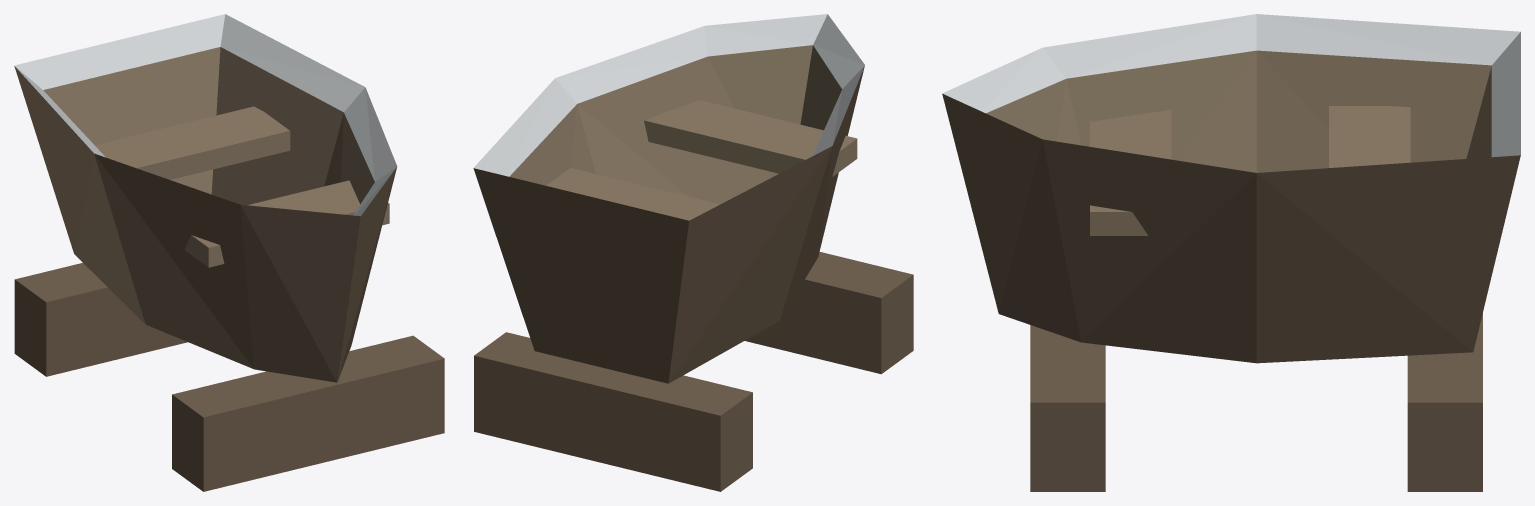
Rendered from boat_on_blocks.glb.
3 views of the same model, side by side, from view 1: azimuth 30°, elevation 25°; view 2: azimuth 150°, elevation 25°; view 3: azimuth 270°, elevation 25° (orthographic). The views are drawn at different scales.
Parts seen in each view (by area): view 1: boat_on_blocks; view 2: boat_on_blocks; view 3: boat_on_blocks.
Boxes of the visible parts, x1,y1,x2,y2 form: boat_on_blocks: [14, 14, 444, 491]; boat_on_blocks: [473, 14, 913, 491]; boat_on_blocks: [942, 14, 1520, 491].
Size of the model in its own units: 1.25 by 1.2 by 1.92.
